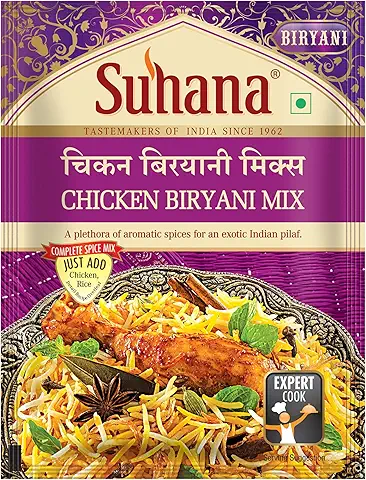Biryani: (6, 3, 366, 480)
